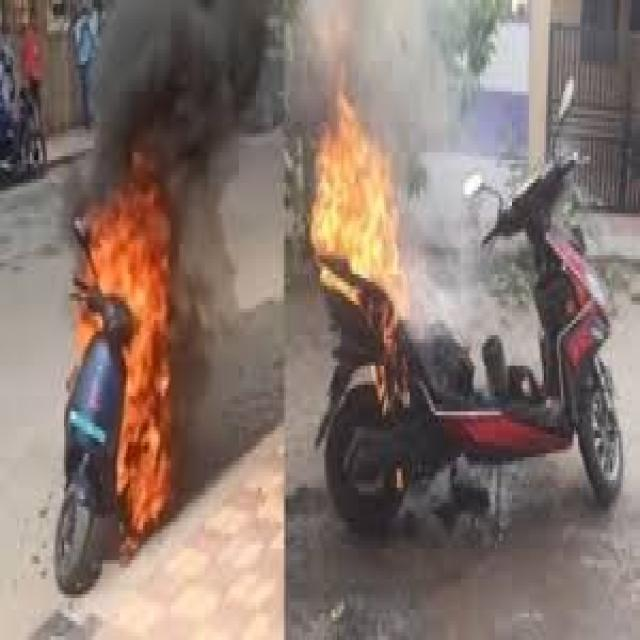Fire: (76, 185, 170, 532), (309, 85, 406, 318)
Smoke: (93, 0, 268, 182), (406, 78, 494, 334), (173, 181, 238, 432), (303, 4, 468, 86)
